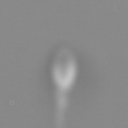normal: (46, 88, 83, 128)
